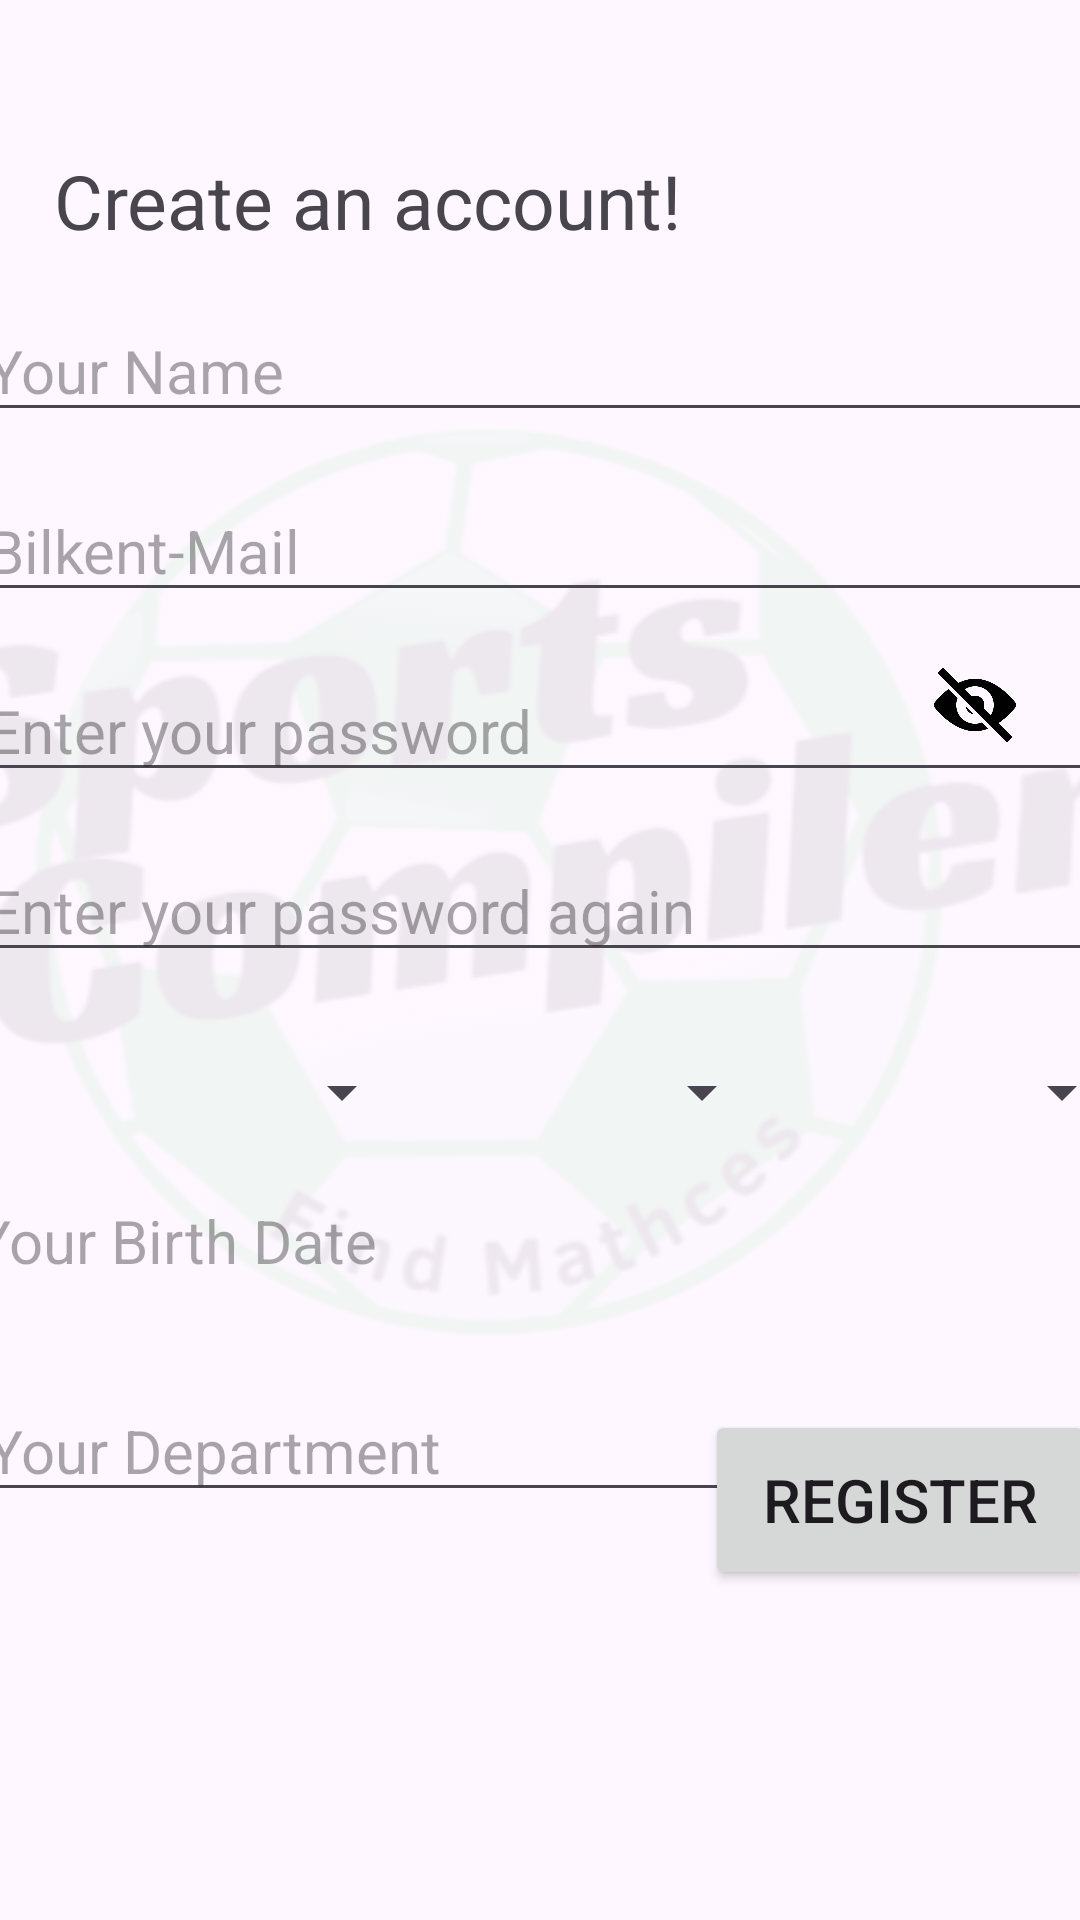

Where to tap for icons on this 1080x1920 app screen, as (x=x, y=y):
eye closed: (x=975, y=705)
